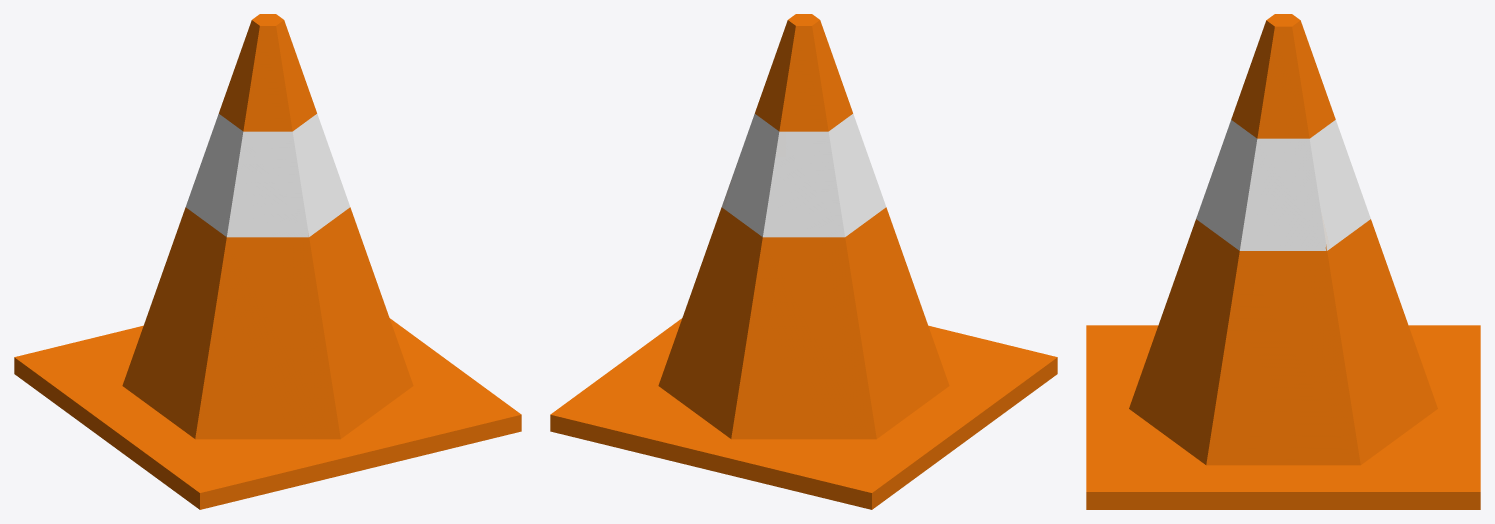
File: TrafficCone.fbx
3 renders of one model, left to right at view 1: azimuth 30°, elevation 25°; view 2: azimuth 150°, elevation 25°; view 3: azimuth 270°, elevation 25°, orthographic. The views are drawn at different scales.
Visible parts, largest first — view 1: Cone; view 2: Cone; view 3: Cone.
Boxes of the visible parts, left/top/right/bottom form: Cone: left=14, top=14, right=521, bottom=509; Cone: left=550, top=14, right=1057, bottom=509; Cone: left=1086, top=14, right=1480, bottom=509.
Bounding box in the file's own units: 100 × 114 × 100.
